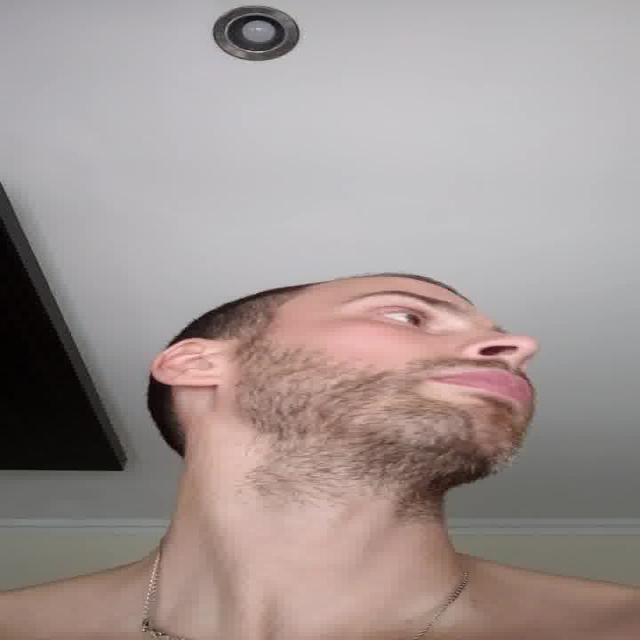earlobe: (152, 338, 224, 388)
